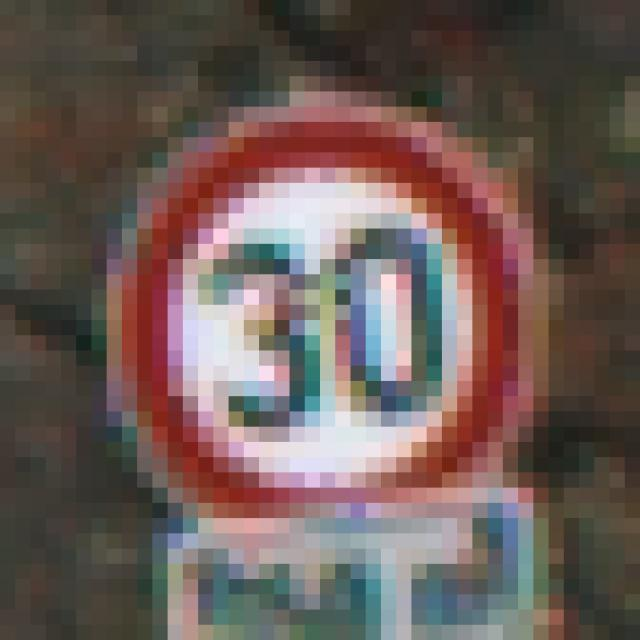Speed Limit -30-: (84, 69, 556, 542)
